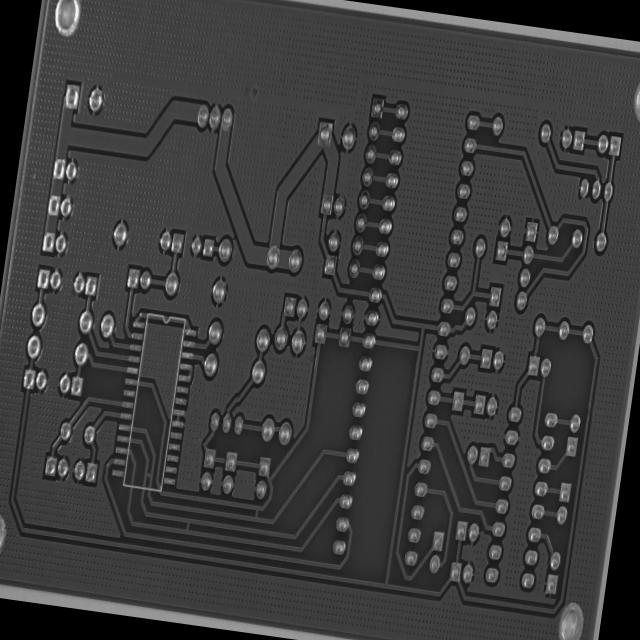short: (140, 463, 156, 488), (248, 502, 264, 526), (180, 514, 195, 536)
